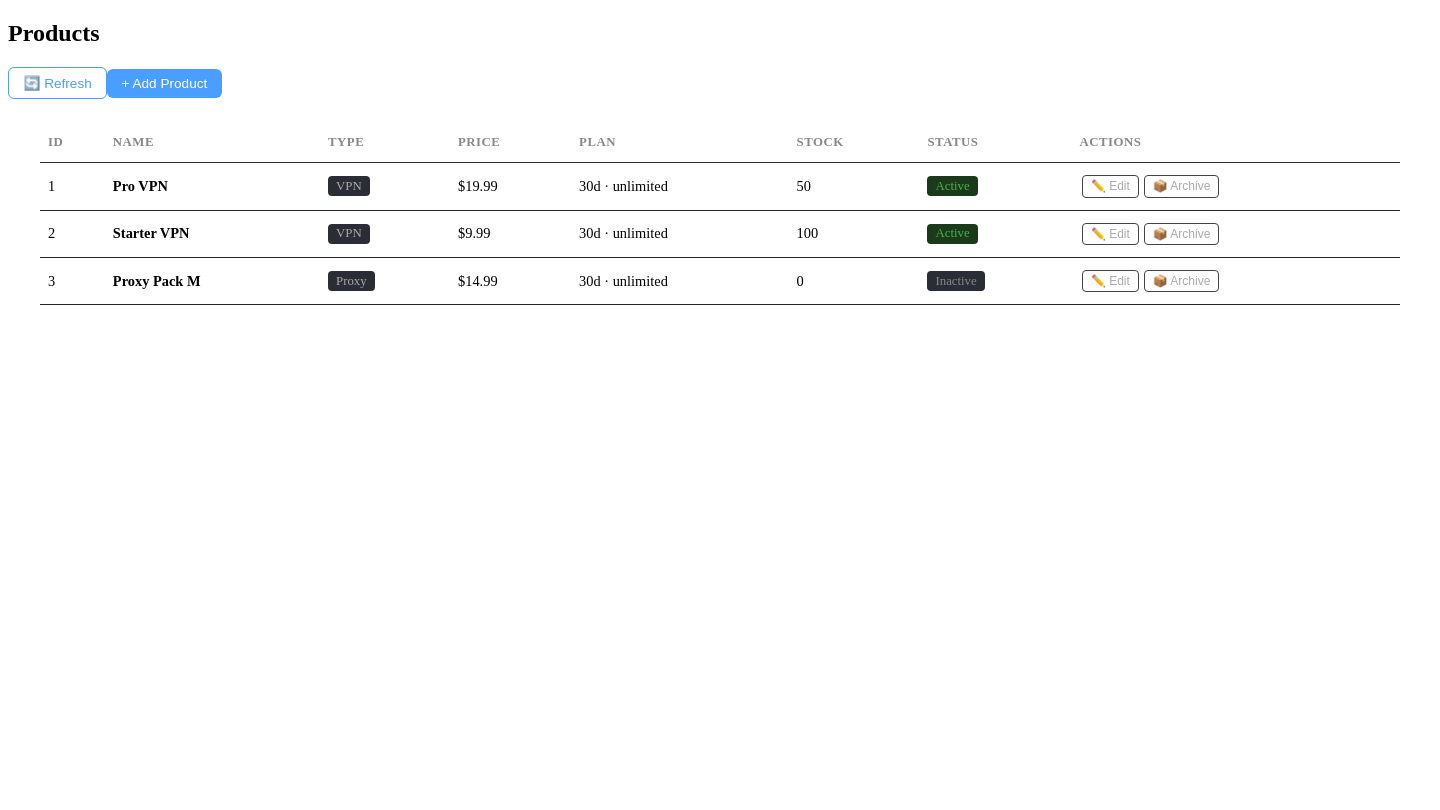
Test case: Admin Products.vue › disables saving button when saving is in progress
# Click add product to open modal
Step 1. Click the button "+ Add Product" → [164, 84], box [107, 69, 222, 98]
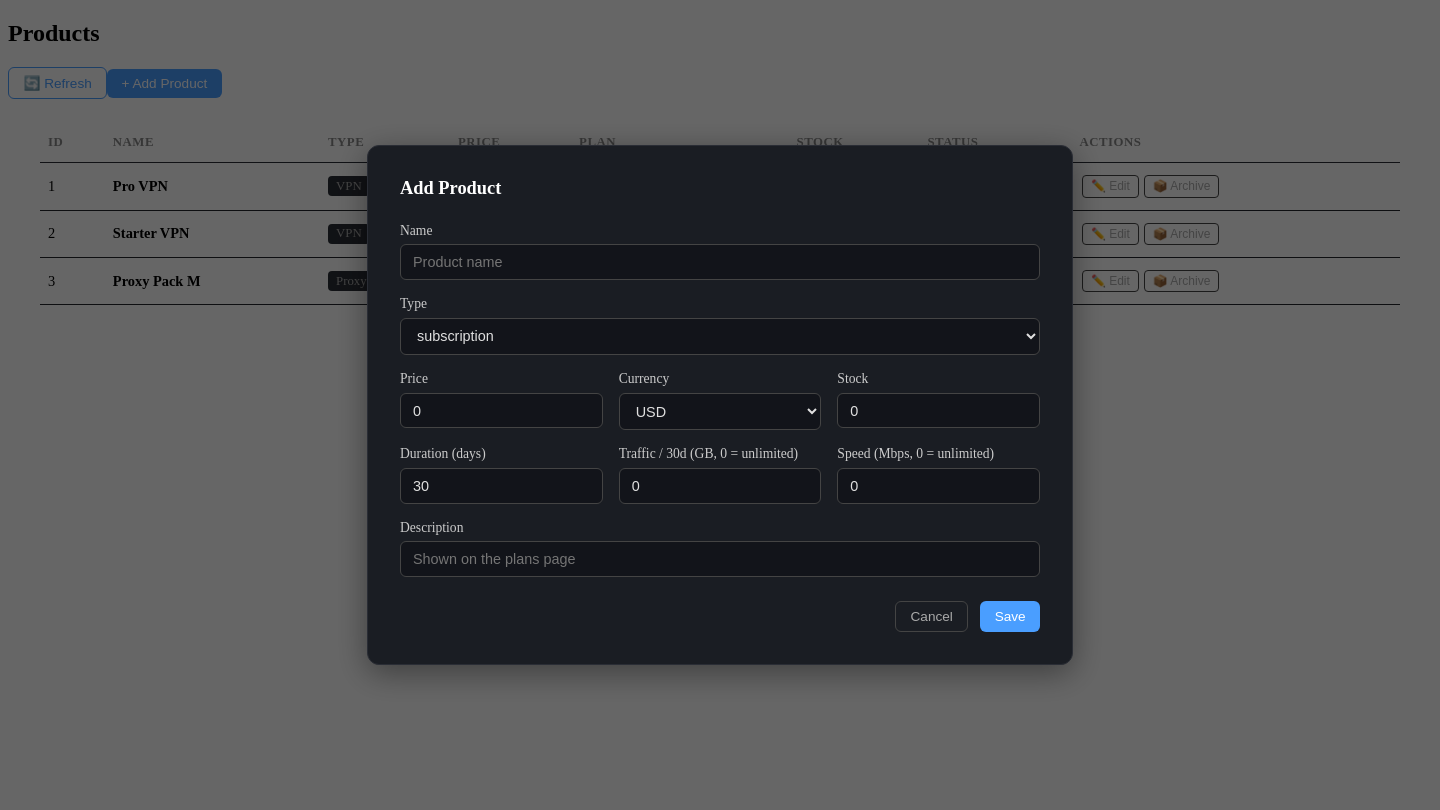
Result: the element with class "modal-overlay" is shown
Result: the heading "Add Product" is shown at [400, 178, 501, 198]
